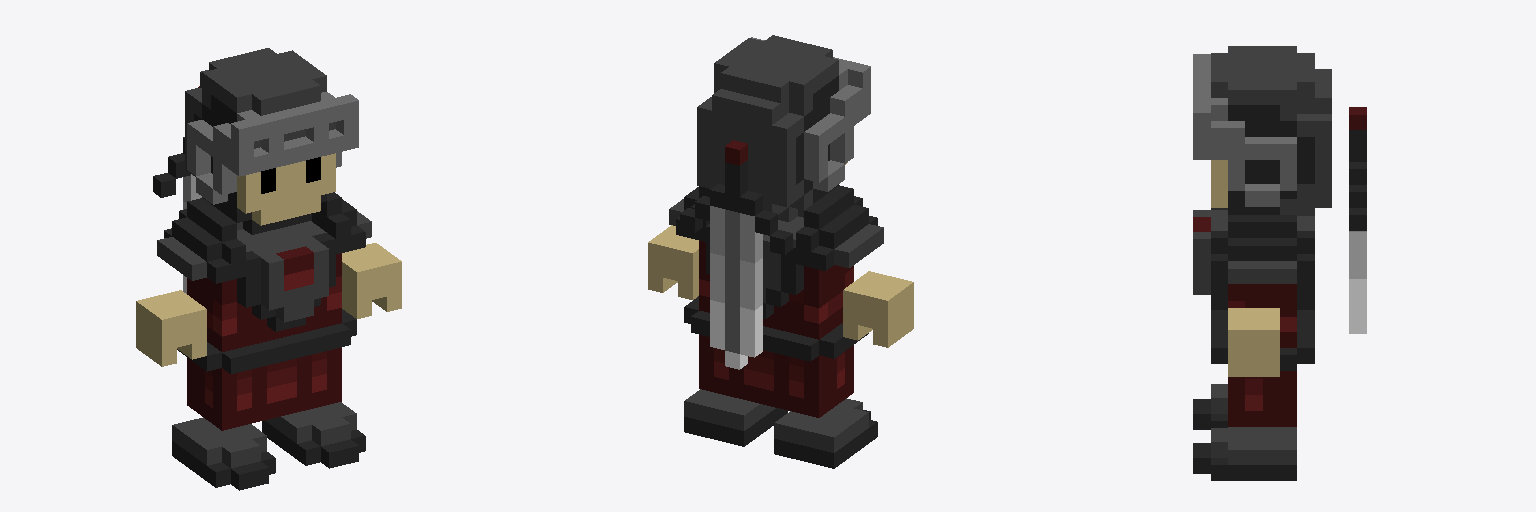
3 views of the same model, side by side, from view 1: azimuth 30°, elevation 25°; view 2: azimuth 150°, elevation 25°; view 3: azimuth 270°, elevation 25° (orthographic).
Visible parts, largest first — view 1: RedKnight; view 2: RedKnight; view 3: RedKnight.
Part boxes in pixels (bbox=[...]): RedKnight: bbox=[136, 48, 401, 490]; RedKnight: bbox=[648, 35, 913, 468]; RedKnight: bbox=[1193, 46, 1366, 480].
Size of the model in its own units: 16 by 24 by 10.
Materials: 1 (1 with a texture image).